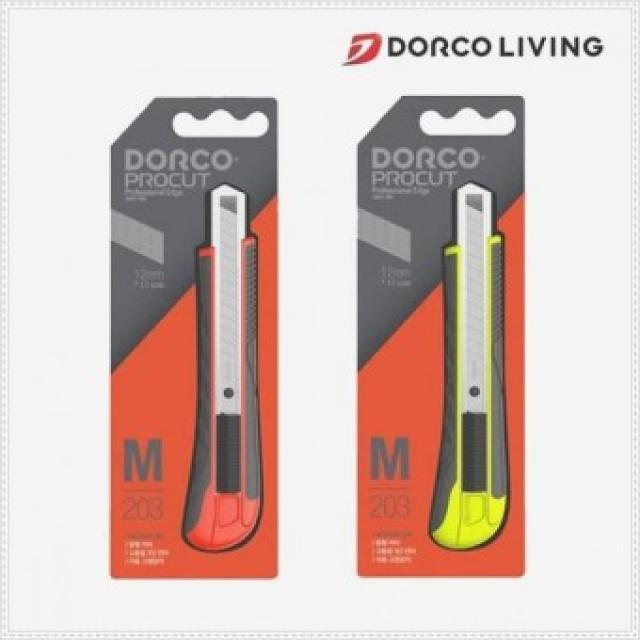cutter: (163, 173, 277, 552), (421, 174, 516, 554)
